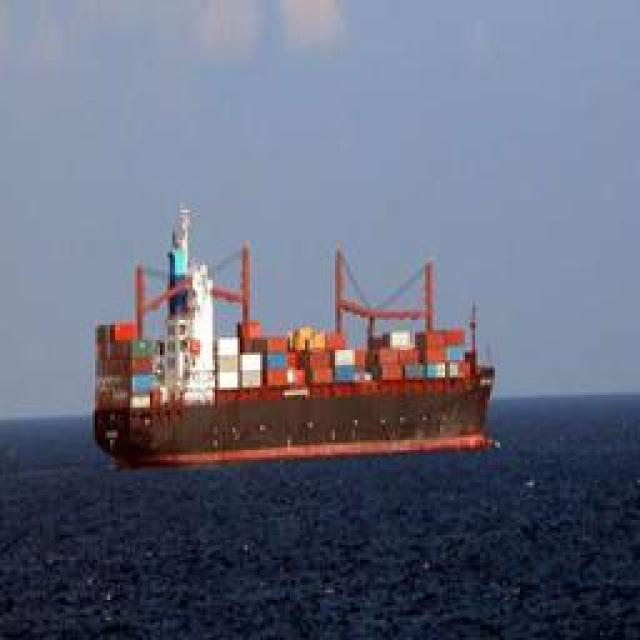ship2: (92, 206, 497, 472)
